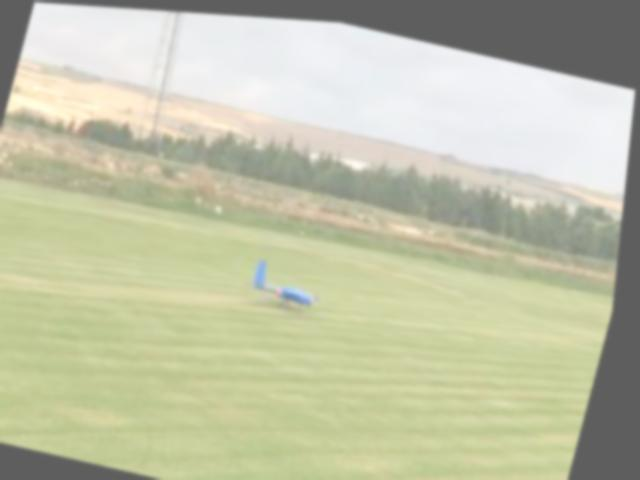uav: (242, 247, 340, 320)
